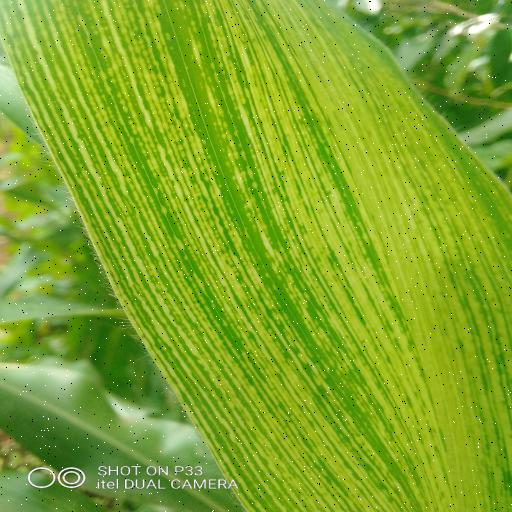Corn_Streak: (9, 0, 512, 512)
